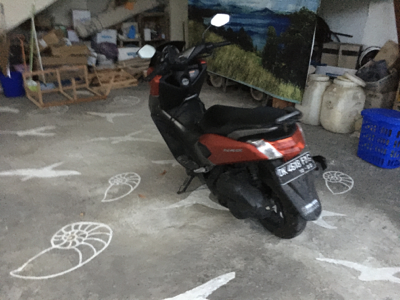moto: (137, 27, 331, 244)
